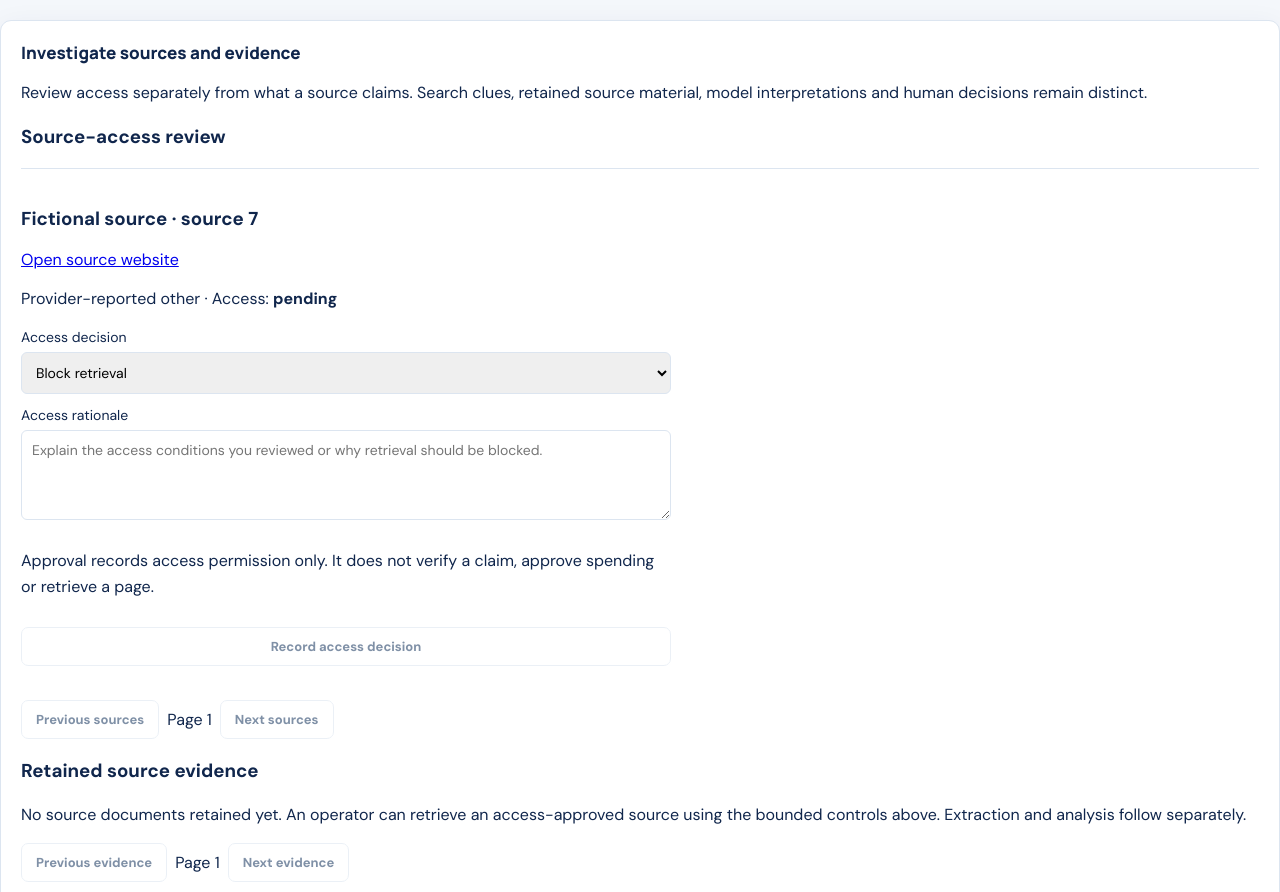
Test: requires a rationale and reviewed conditions before approval, with no retrieval
Check: the heading "Fictional source · source 7" is shown, box [21,206,258,231]
Select "Approve later bounded retrieval" in the dropdown labelled "Access decision": (346, 373) [21,352,671,394]
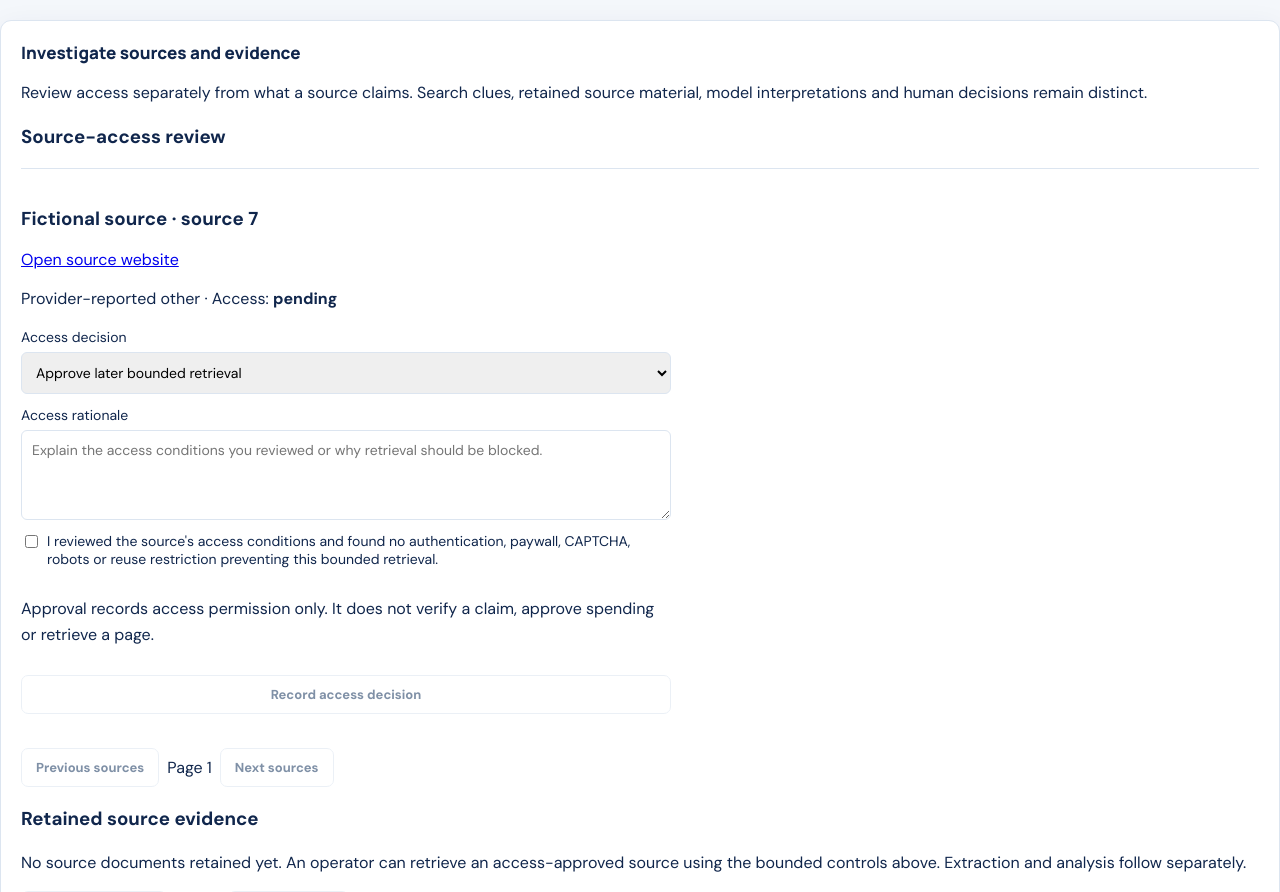
Replace the text in the text box labelled "Access rationale" with "Public access reviewed": (346, 475) [21,430,671,520]
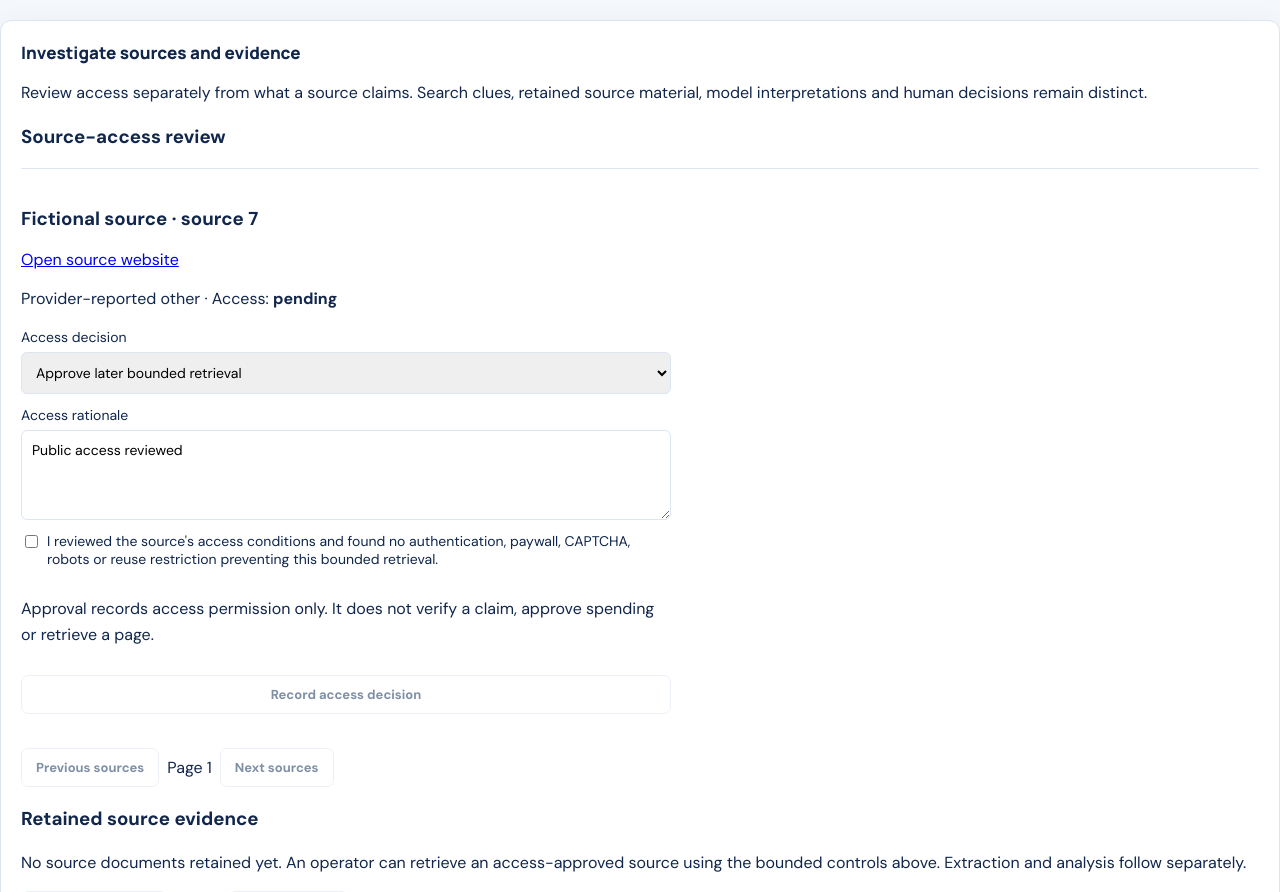
Check: the button "Record access decision" is disabled, box [21,675,671,714]
Click the checkbox: click(32, 542) [25,535,38,548]
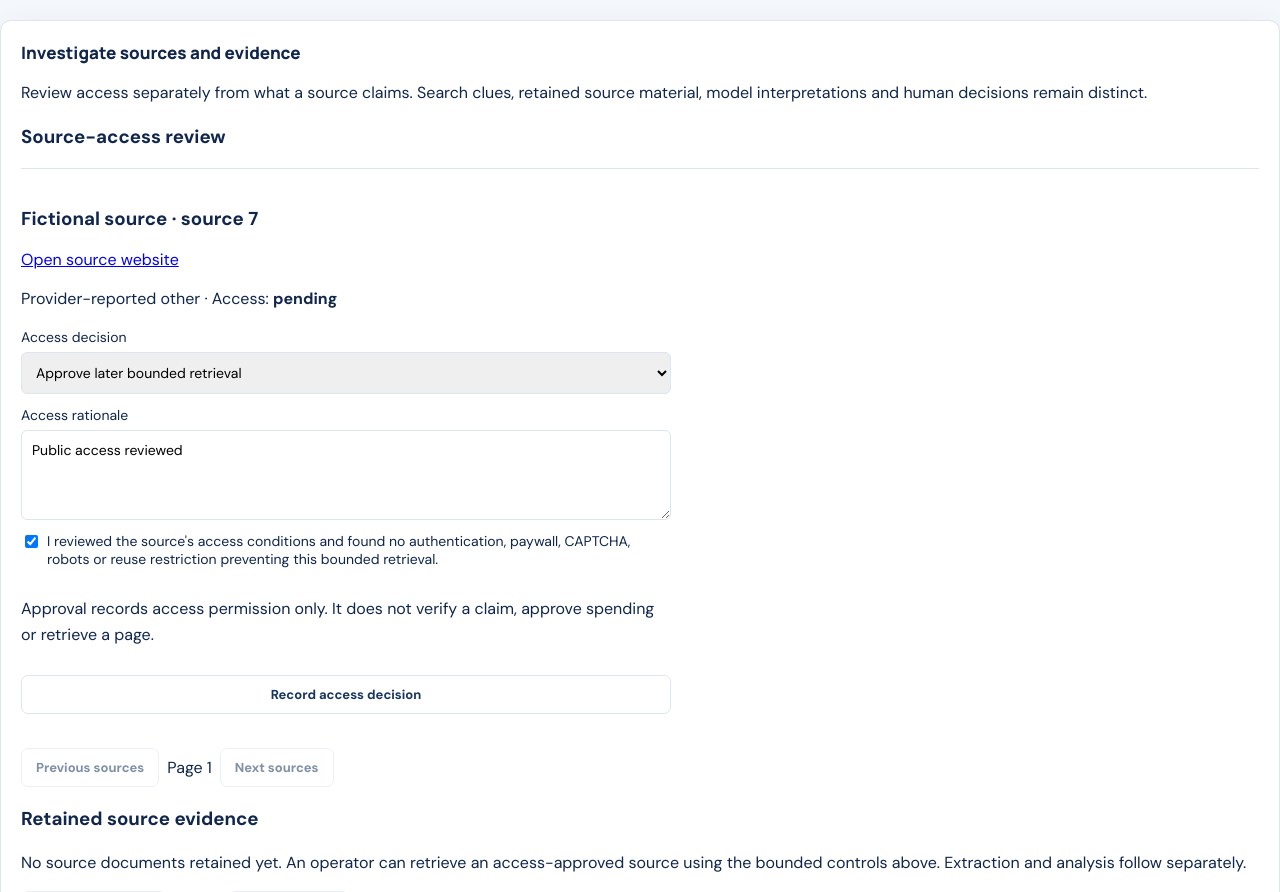
Click the button "Record access decision": click(346, 695) [21,675,671,714]
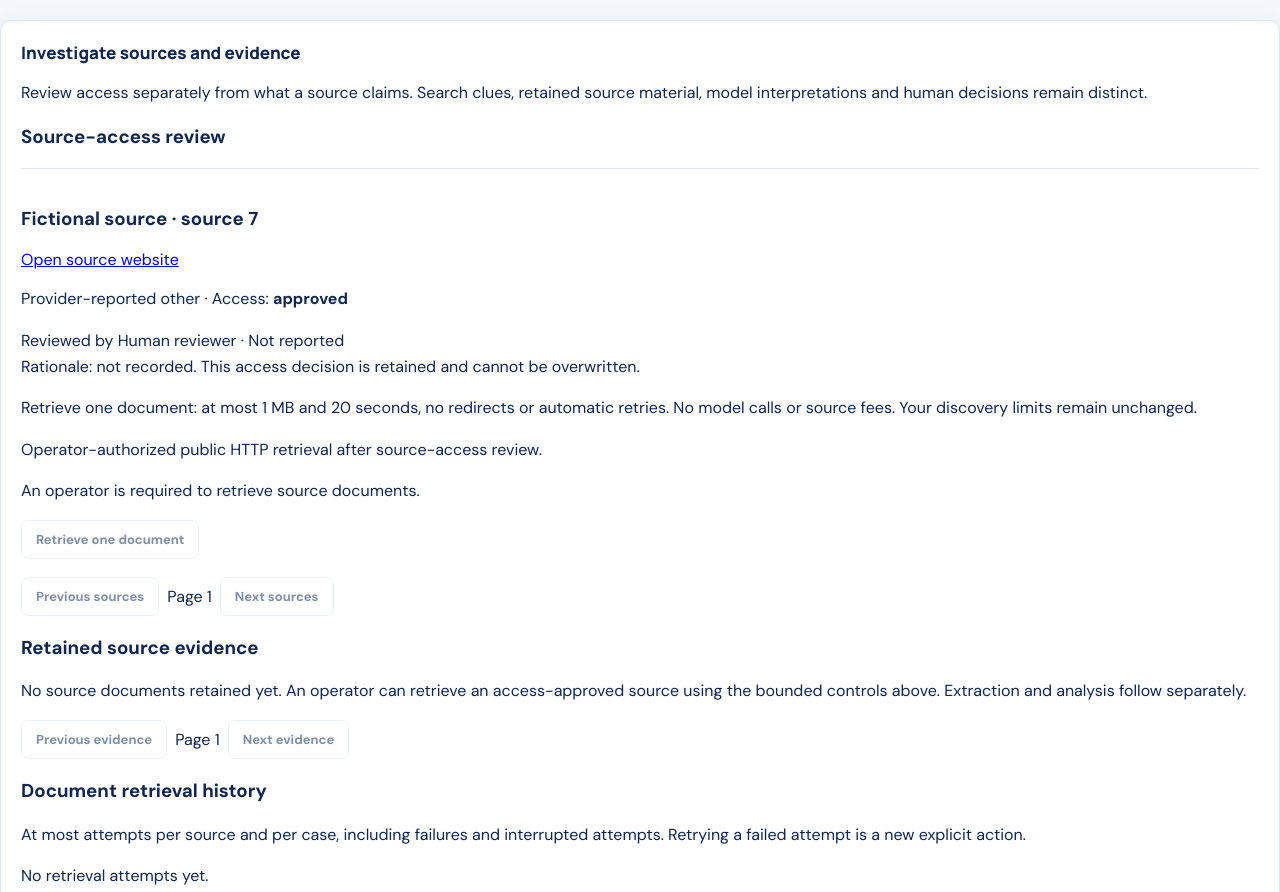
Check: the text "Reviewed by Human reviewer" is shown, box [21,330,640,377]
Check: the button "Record access decision" is gone
